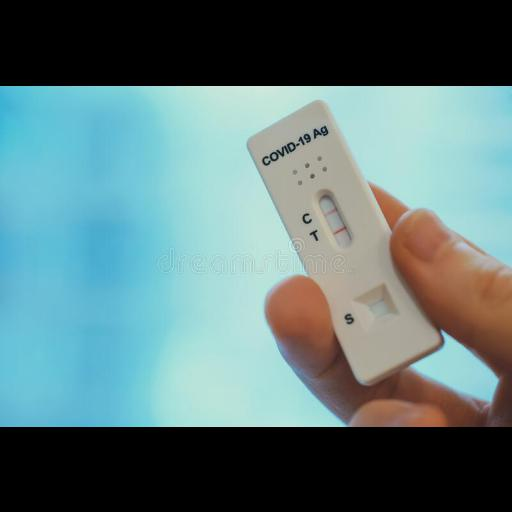Pos: (247, 97, 445, 384)
